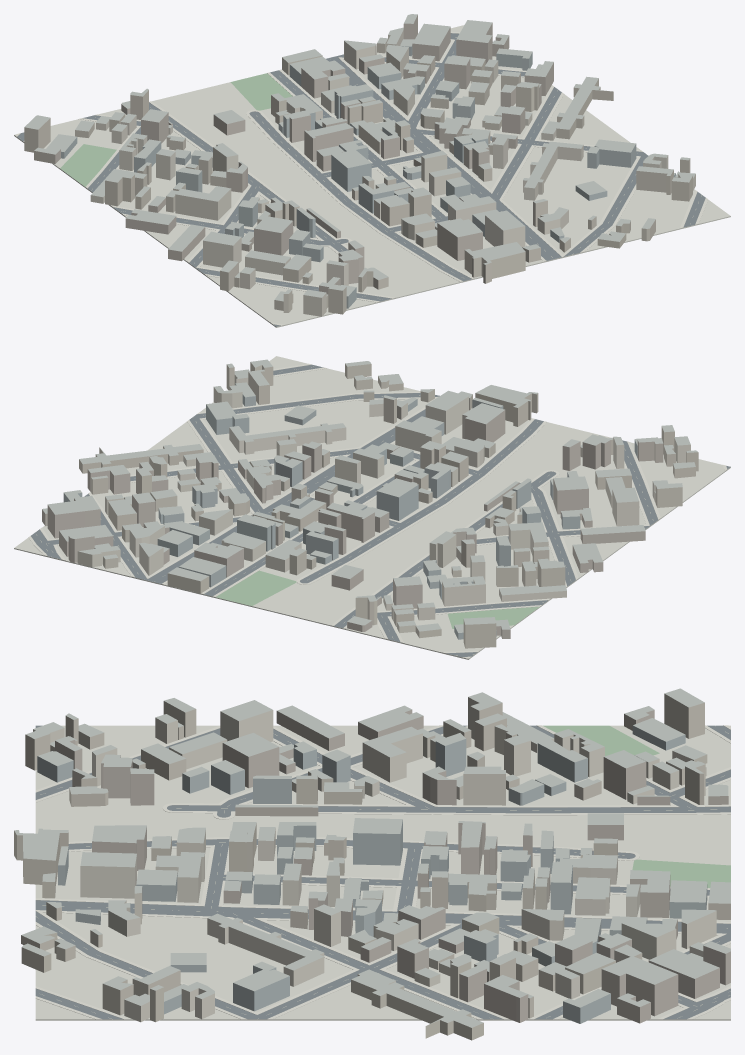
3 views of the same model, one above another, from view 1: azimuth 30°, elevation 25°; view 2: azimuth 150°, elevation 25°; view 3: azimuth 270°, elevation 25° (orthographic). The views are drawn at different scales.
Parts seen in each view (by area): view 1: city; view 2: city; view 3: city.
Part boxes in pixels (box(x1,y1,x2,y2)): city: box(14, 14, 730, 327); city: box(14, 356, 730, 659); city: box(14, 688, 730, 1040).
Bounding box in the file's own units: 549 × 26 × 516.
